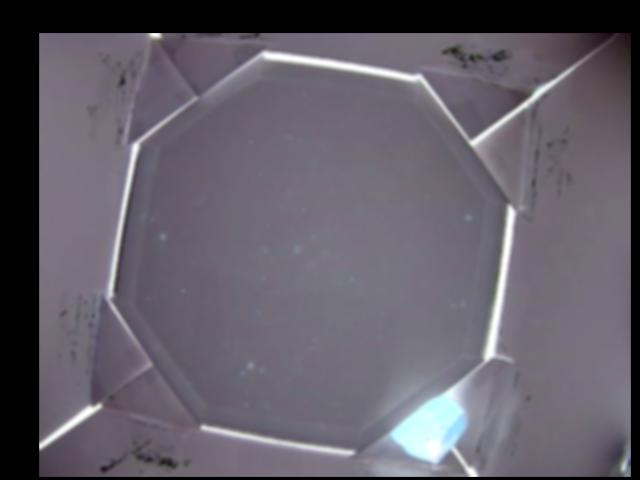Brisk: (394, 394, 466, 461)
